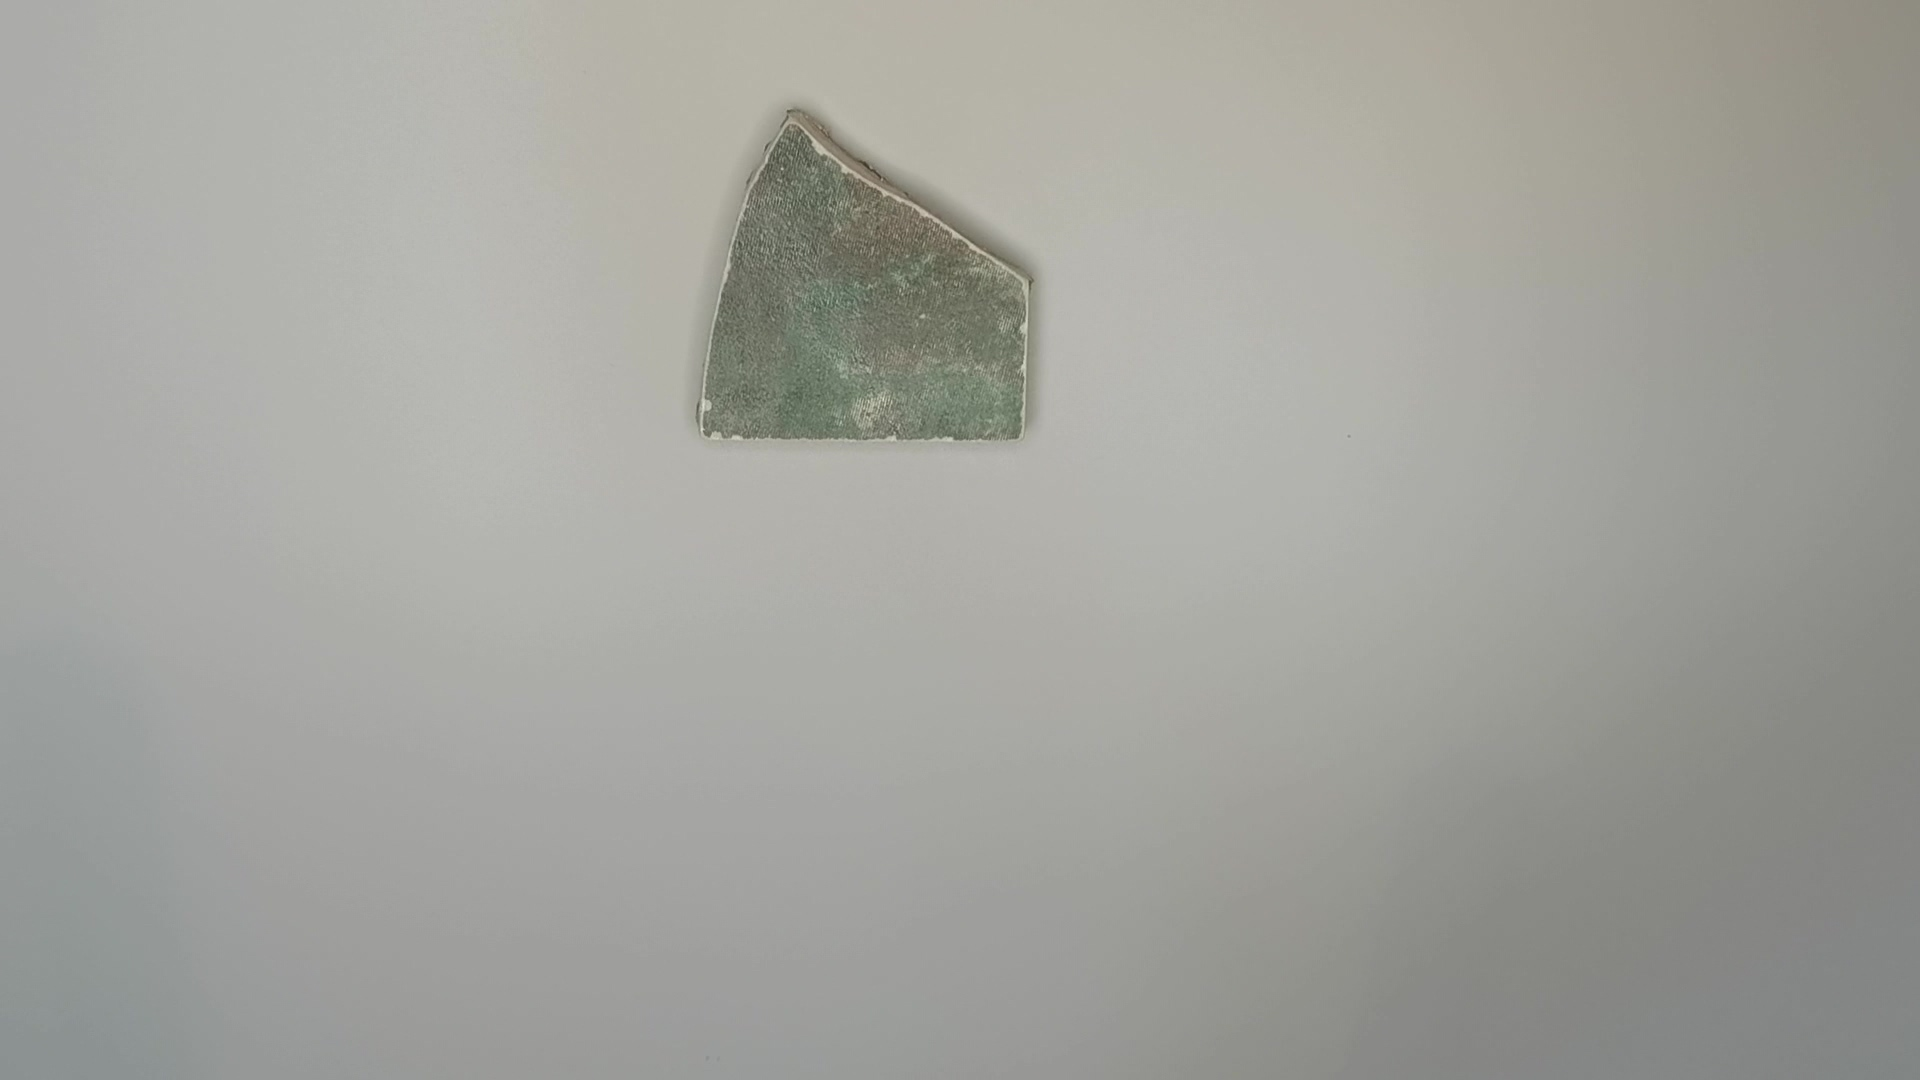ceramic: (691, 105, 1044, 458)
